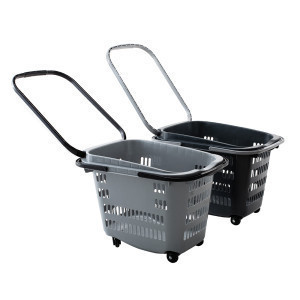with_basket: (12, 63, 214, 259), (107, 39, 286, 216)
